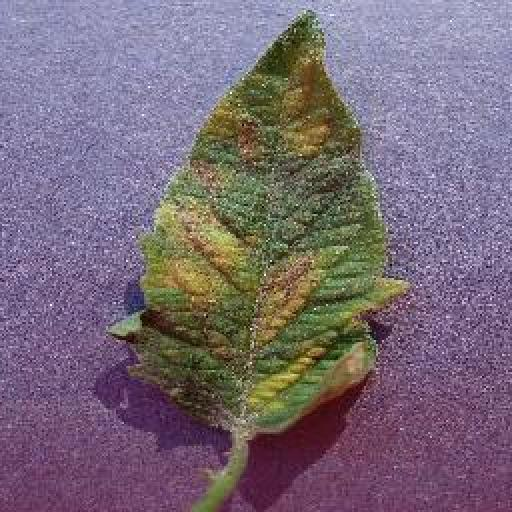Leaf Mold: (104, 5, 410, 436)
